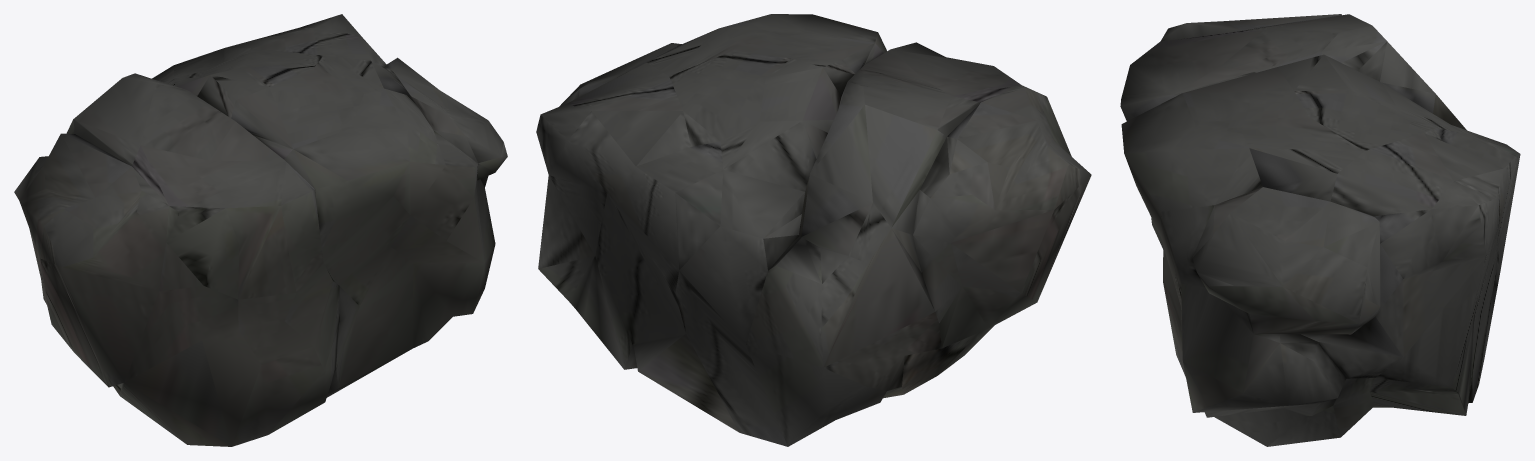
Rendered from masso_spigoli.glb.
3 renders of one model, left to right at view 1: azimuth 30°, elevation 25°; view 2: azimuth 150°, elevation 25°; view 3: azimuth 270°, elevation 25°, orthographic. The views are drawn at different scales.
Visible parts, largest first — view 1: Mesh_0.007; view 2: Mesh_0.007; view 3: Mesh_0.007.
Boxes of the visible parts, left/top/right/bottom form: Mesh_0.007: left=14, top=14, right=507, bottom=446; Mesh_0.007: left=536, top=14, right=1091, bottom=446; Mesh_0.007: left=1120, top=14, right=1520, bottom=446.
Size of the model in its own units: 1.91 by 1.23 by 1.34.
Materials: 1 (1 with a texture image).
